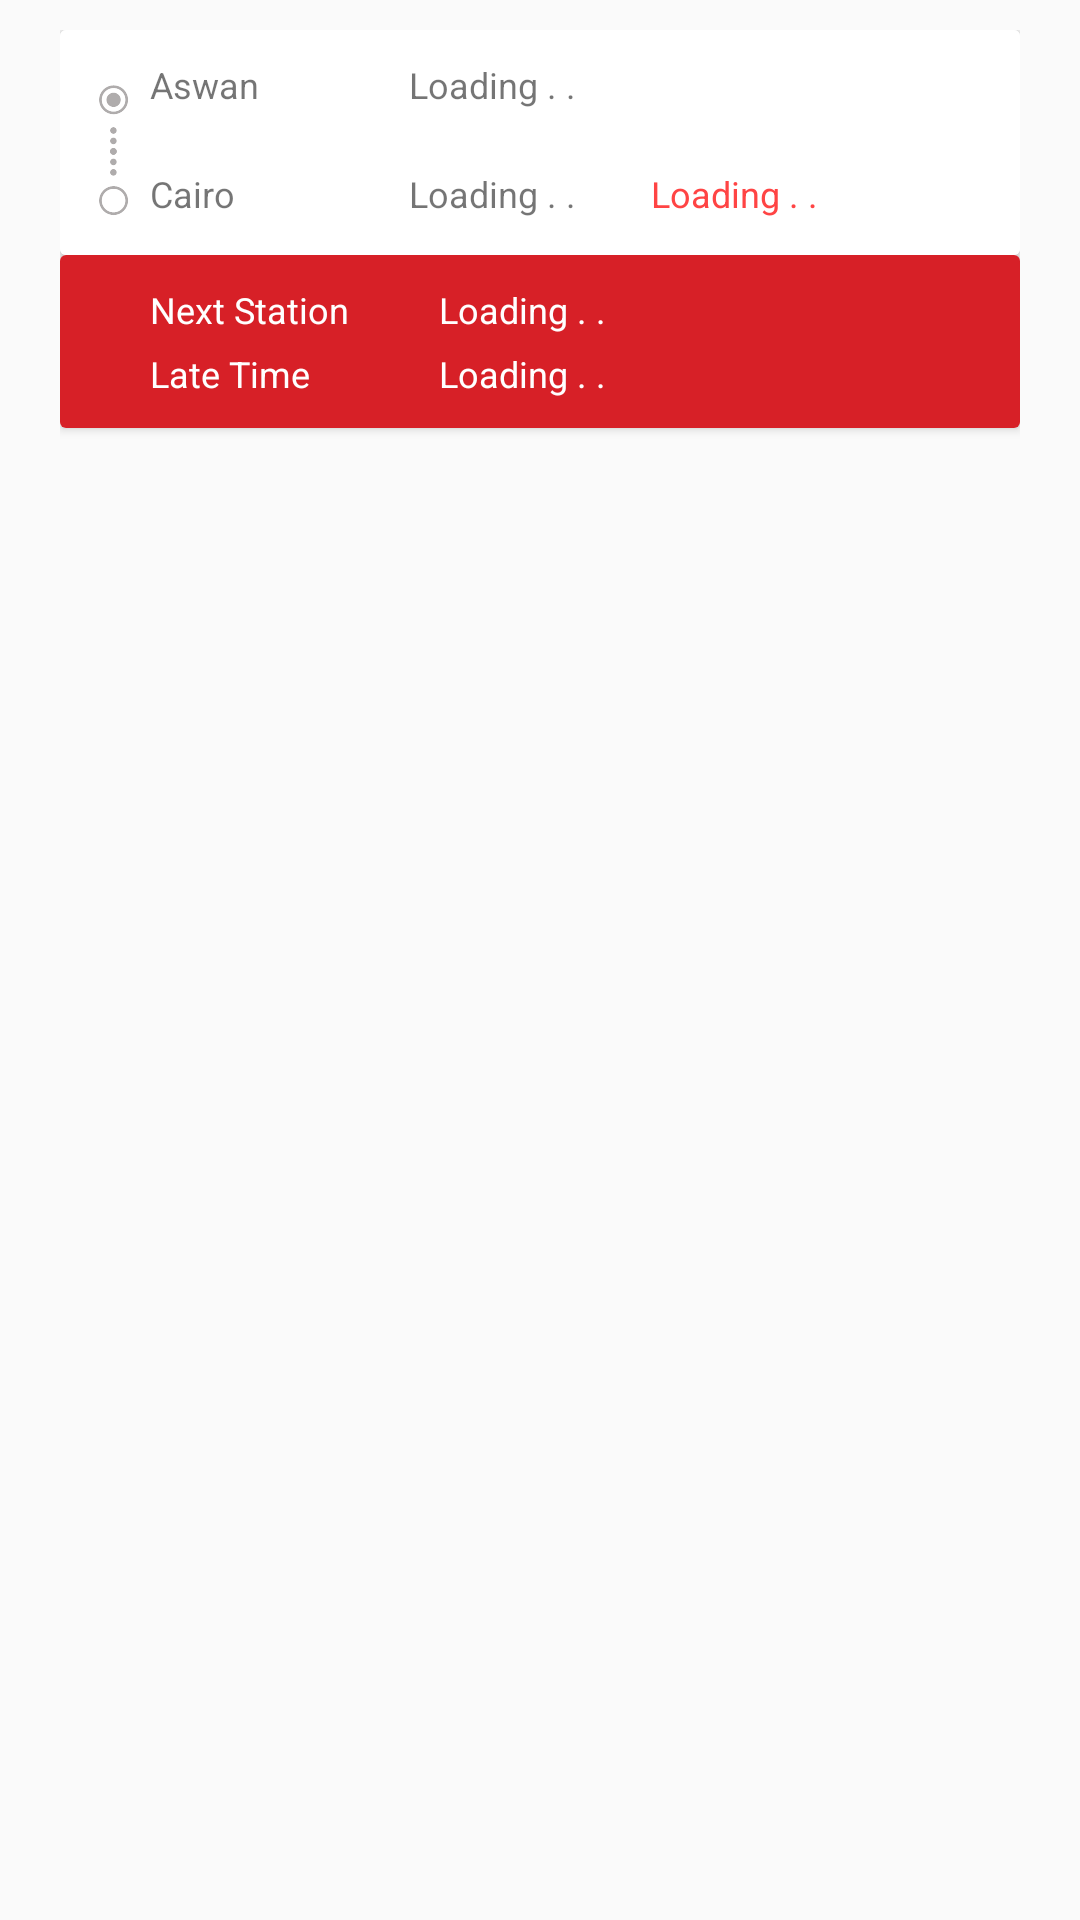

Where to tap for icons on this 1080px x 1920px app screen, as (x,y):
Route: (113,150)
